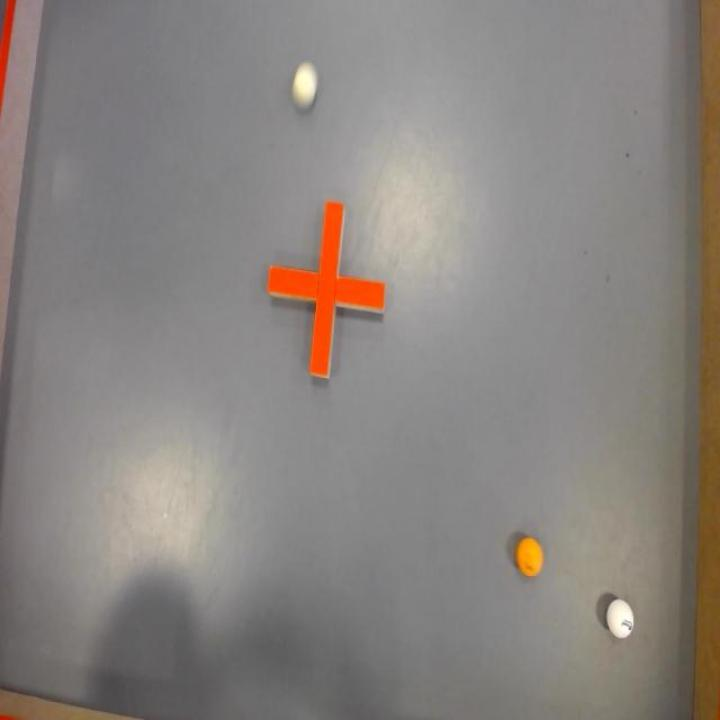orange: (515, 534, 544, 579)
white: (291, 60, 321, 114), (607, 597, 636, 642)
